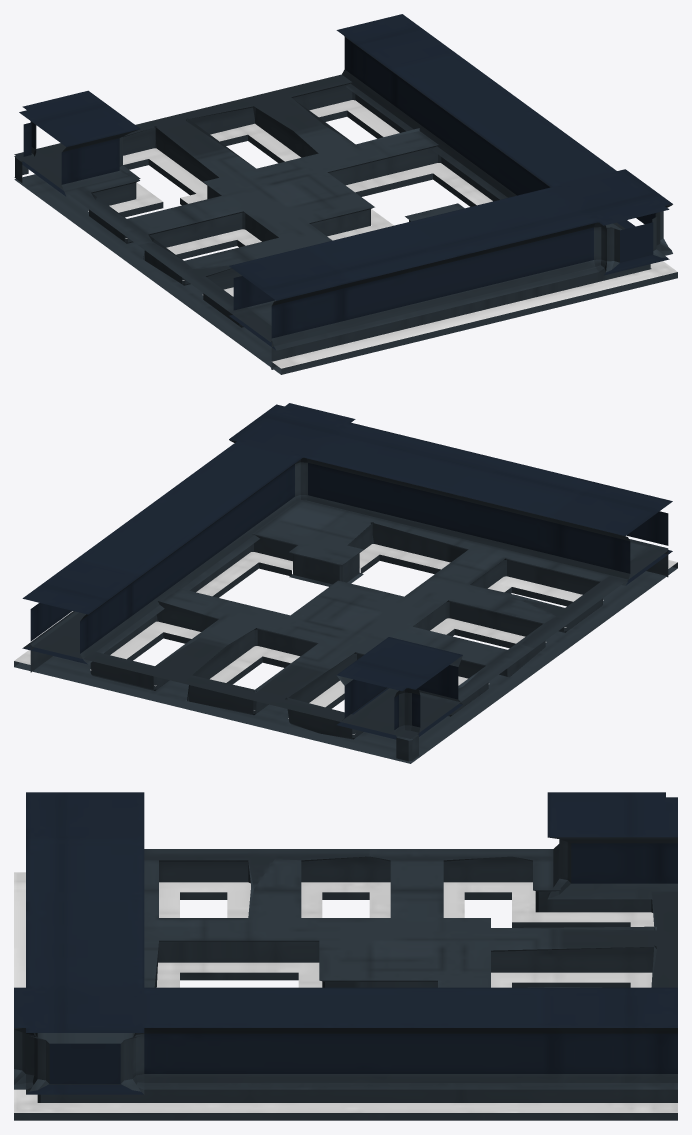
Rendered from delbld-girder-589.glb.
3 views of the same model, one above another, from view 1: azimuth 30°, elevation 25°; view 2: azimuth 150°, elevation 25°; view 3: azimuth 270°, elevation 25° (orthographic). The views are drawn at different scales.
Visible parts, largest first — view 1: delbld-girder-589; view 2: delbld-girder-589; view 3: delbld-girder-589.
Boxes of the visible parts, left/top/right/bottom form: delbld-girder-589: left=14, top=14, right=677, bottom=374; delbld-girder-589: left=14, top=403, right=677, bottom=763; delbld-girder-589: left=14, top=792, right=677, bottom=1120.
Size of the model in its own units: 2 by 0.35 by 2.33.
3 materials, 3 textured.
